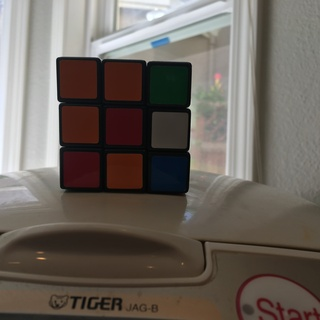face: (55, 56, 190, 196)
